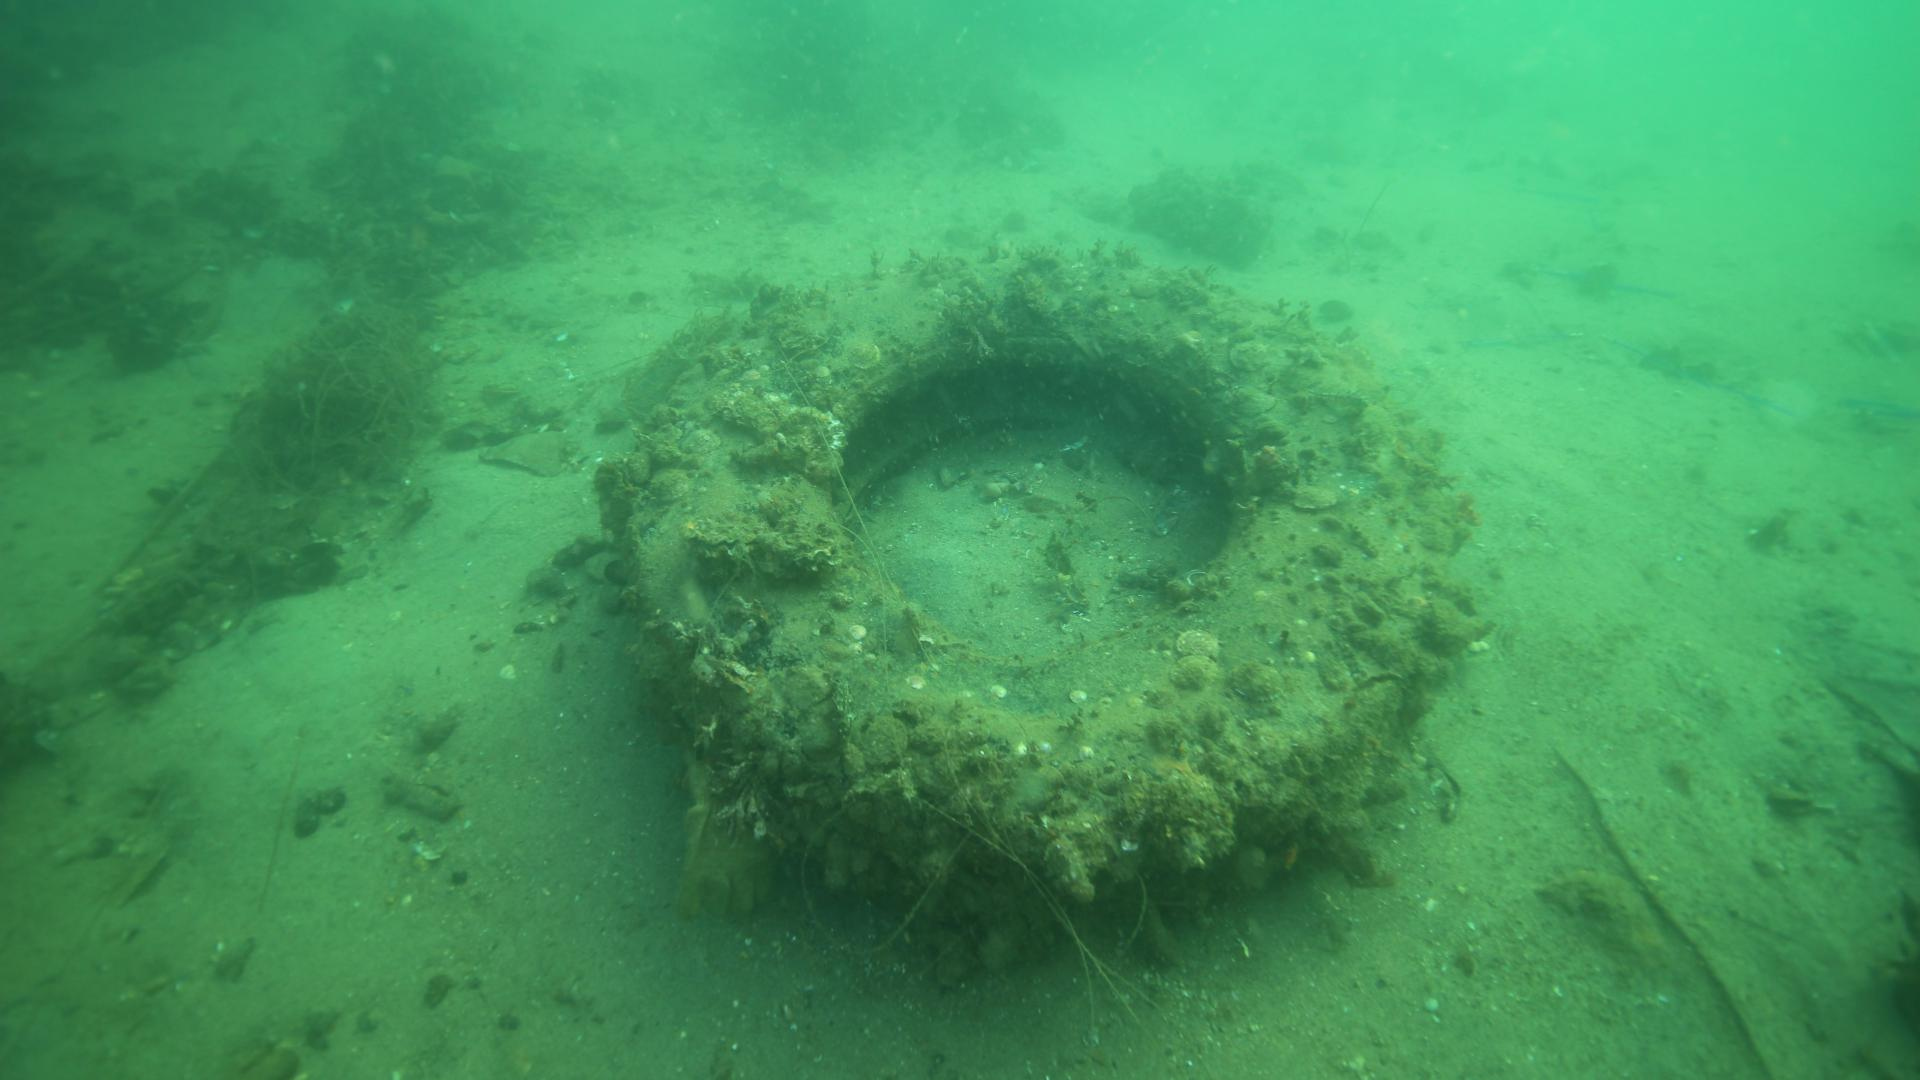tire: (636, 255, 1445, 882)
